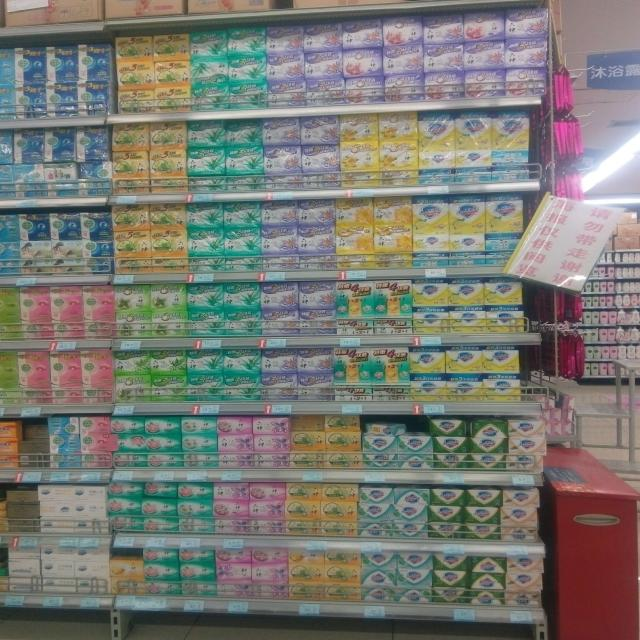unorganised: (5, 487, 39, 534), (18, 420, 49, 466), (362, 416, 410, 436), (290, 416, 325, 430), (111, 547, 143, 559)
